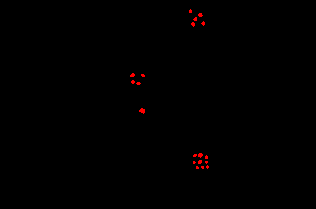Target: (139, 108, 145, 114), (198, 153, 203, 158), (198, 13, 203, 17), (201, 21, 205, 26), (191, 22, 195, 27), (130, 73, 135, 77), (193, 17, 197, 21), (131, 80, 135, 84), (198, 160, 202, 164), (136, 82, 141, 85), (189, 9, 192, 13), (141, 74, 145, 77), (193, 154, 197, 157), (205, 155, 208, 159), (206, 165, 209, 169), (193, 161, 196, 164), (205, 161, 208, 164), (196, 166, 199, 169), (201, 166, 204, 169)
